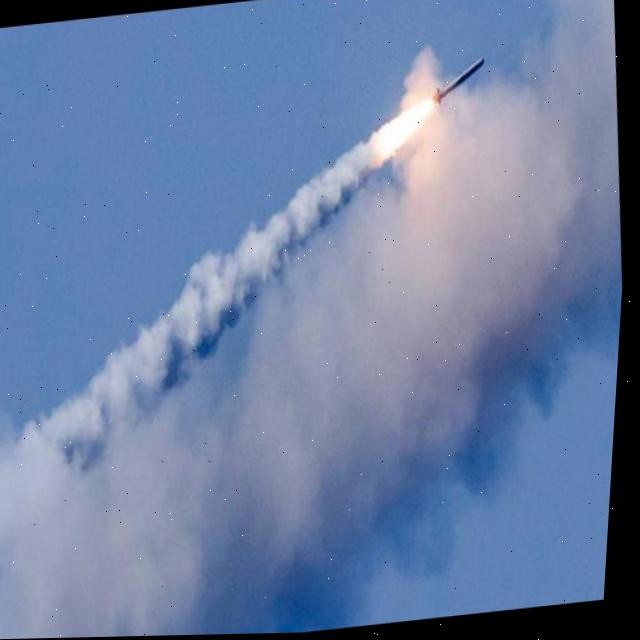missile: (425, 51, 498, 140)
